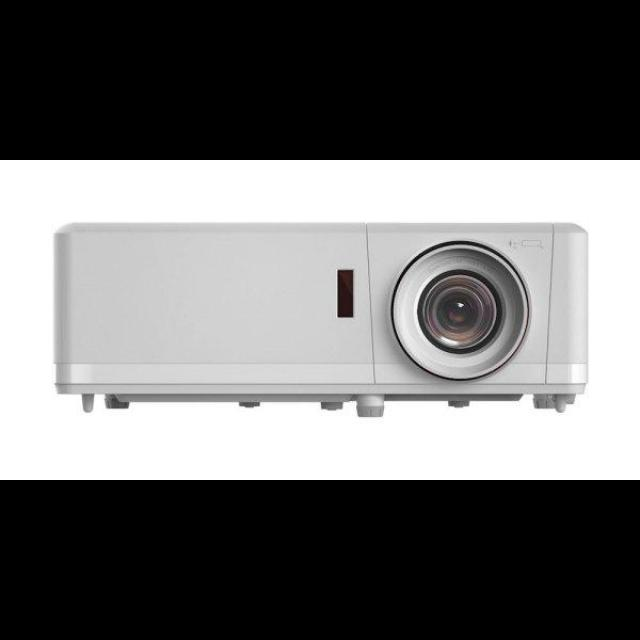Projector: (44, 198, 606, 438)
